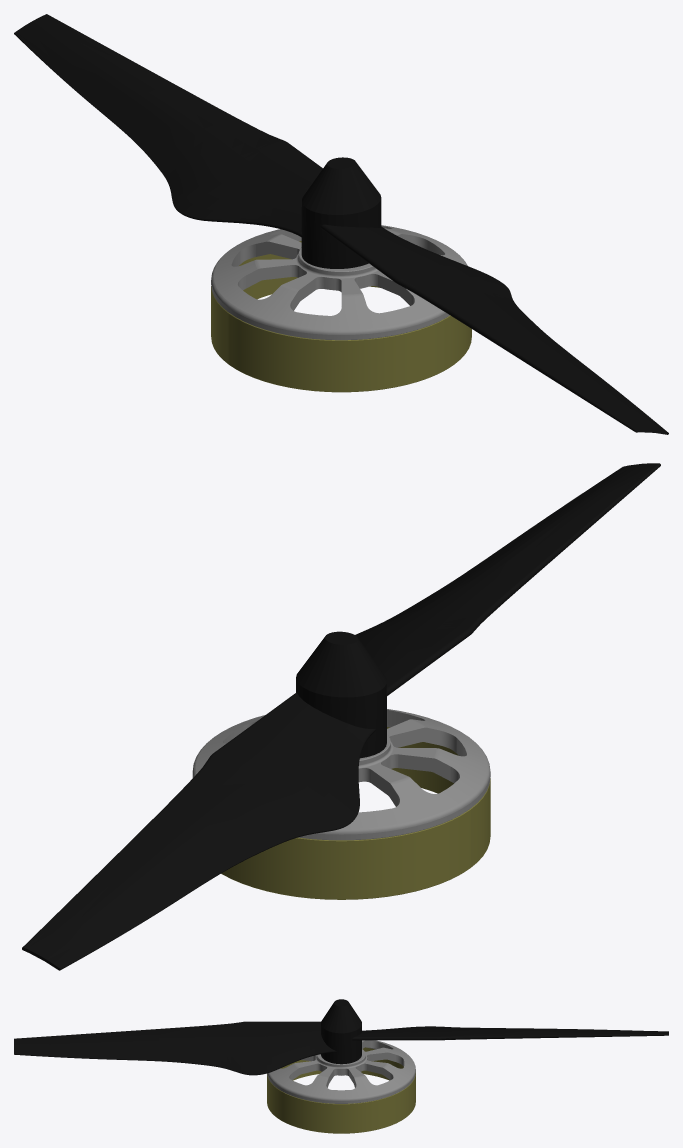
File: prop_fl.dae
3 views of the same model, one above another, from view 1: azimuth 30°, elevation 25°; view 2: azimuth 150°, elevation 25°; view 3: azimuth 270°, elevation 25° (orthographic). The views are drawn at different scales.
Parts seen in each view (by area): view 1: tmp_export_1345_prop_cw; view 2: tmp_export_1345_prop_cw; view 3: tmp_export_1345_prop_cw.
Boxes of the visible parts, x1,y1,x2,y2 form: tmp_export_1345_prop_cw: (14,14,668,434); tmp_export_1345_prop_cw: (22,463,660,970); tmp_export_1345_prop_cw: (14,999,668,1133).
Bounding box in the file's own units: 0.0787 × 0.346 × 0.058.
